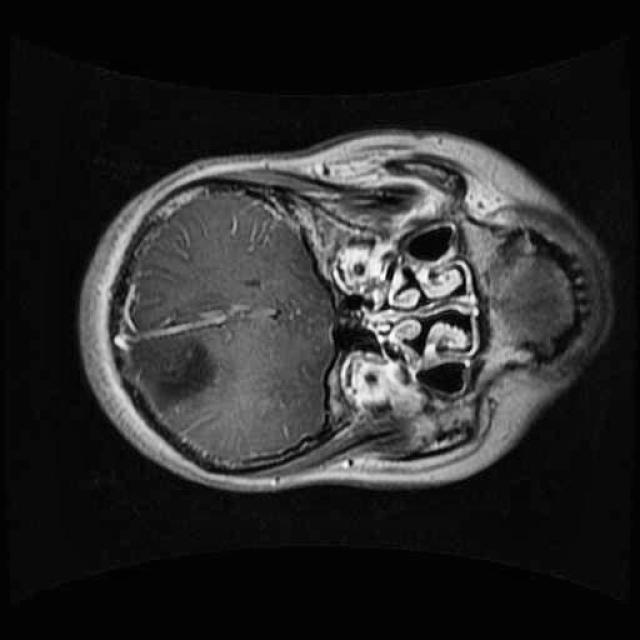Tumor: (110, 326, 232, 420)
